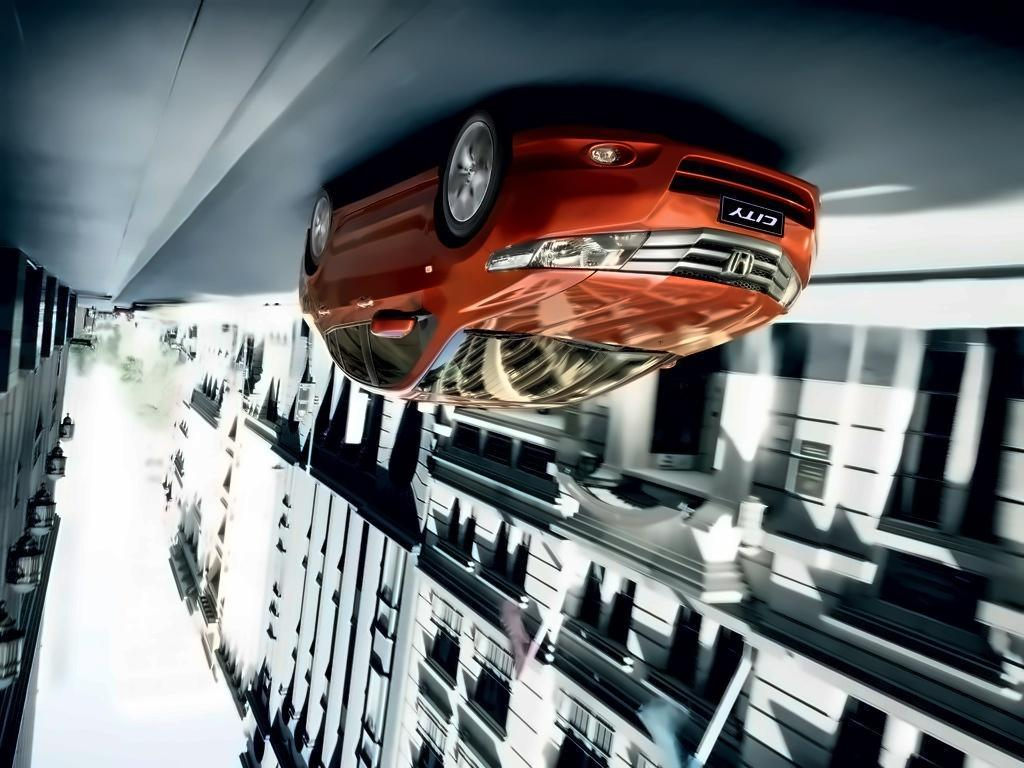Car hood: (475, 267, 788, 361)
Fender - -F-L-: (420, 133, 543, 340)
Front bumper: (498, 116, 850, 270)
Headlight - -L-: (460, 216, 668, 286)
Headlight - -R-: (750, 258, 818, 328)
Passenger-s door - -F-L-: (359, 197, 438, 401)
Passenger-s door - -R-L-: (310, 206, 361, 392)
Side bumper - -L-: (320, 158, 457, 236)
Side mirror - -L-: (348, 283, 436, 349)
